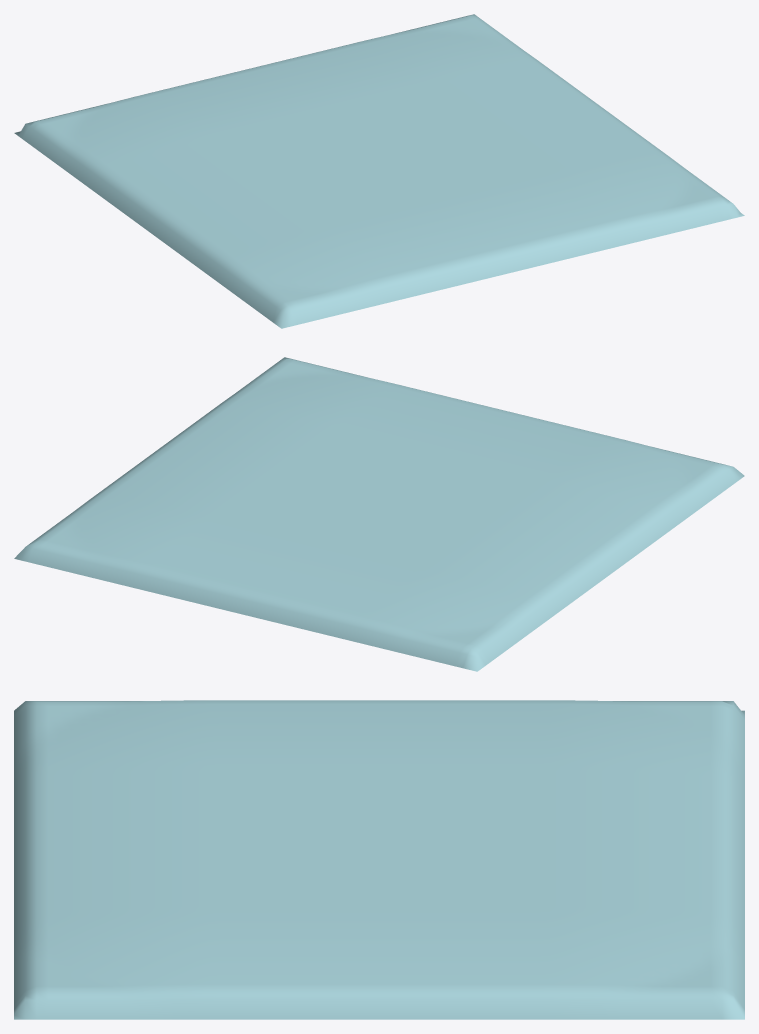
The model's file is plane_square_volume.fbx.
3 views of the same model, one above another, from view 1: azimuth 30°, elevation 25°; view 2: azimuth 150°, elevation 25°; view 3: azimuth 270°, elevation 25° (orthographic). The views are drawn at different scales.
Visible parts, largest first — view 1: Plane; view 2: Plane; view 3: Plane.
Boxes of the visible parts, x1,y1,x2,y2 form: Plane: (14,14,744,328); Plane: (14,357,744,671); Plane: (14,700,744,1019).
Bounding box in the file's own units: 200 × 7.87 × 200.
